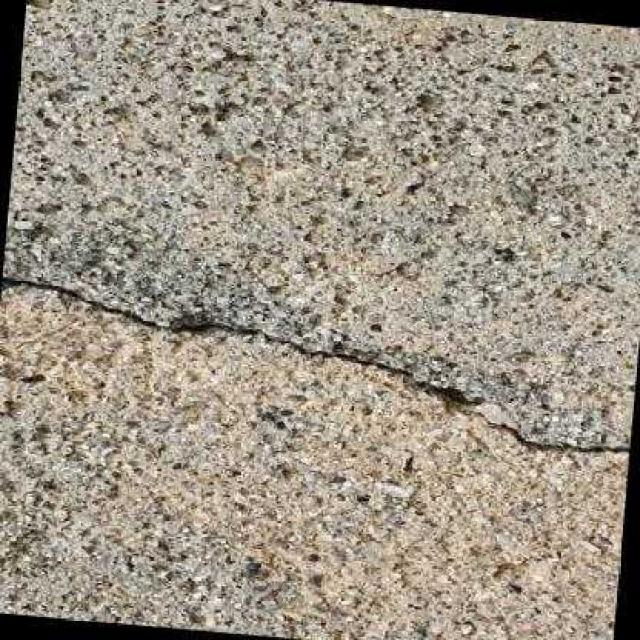D00: (2, 277, 630, 453)
